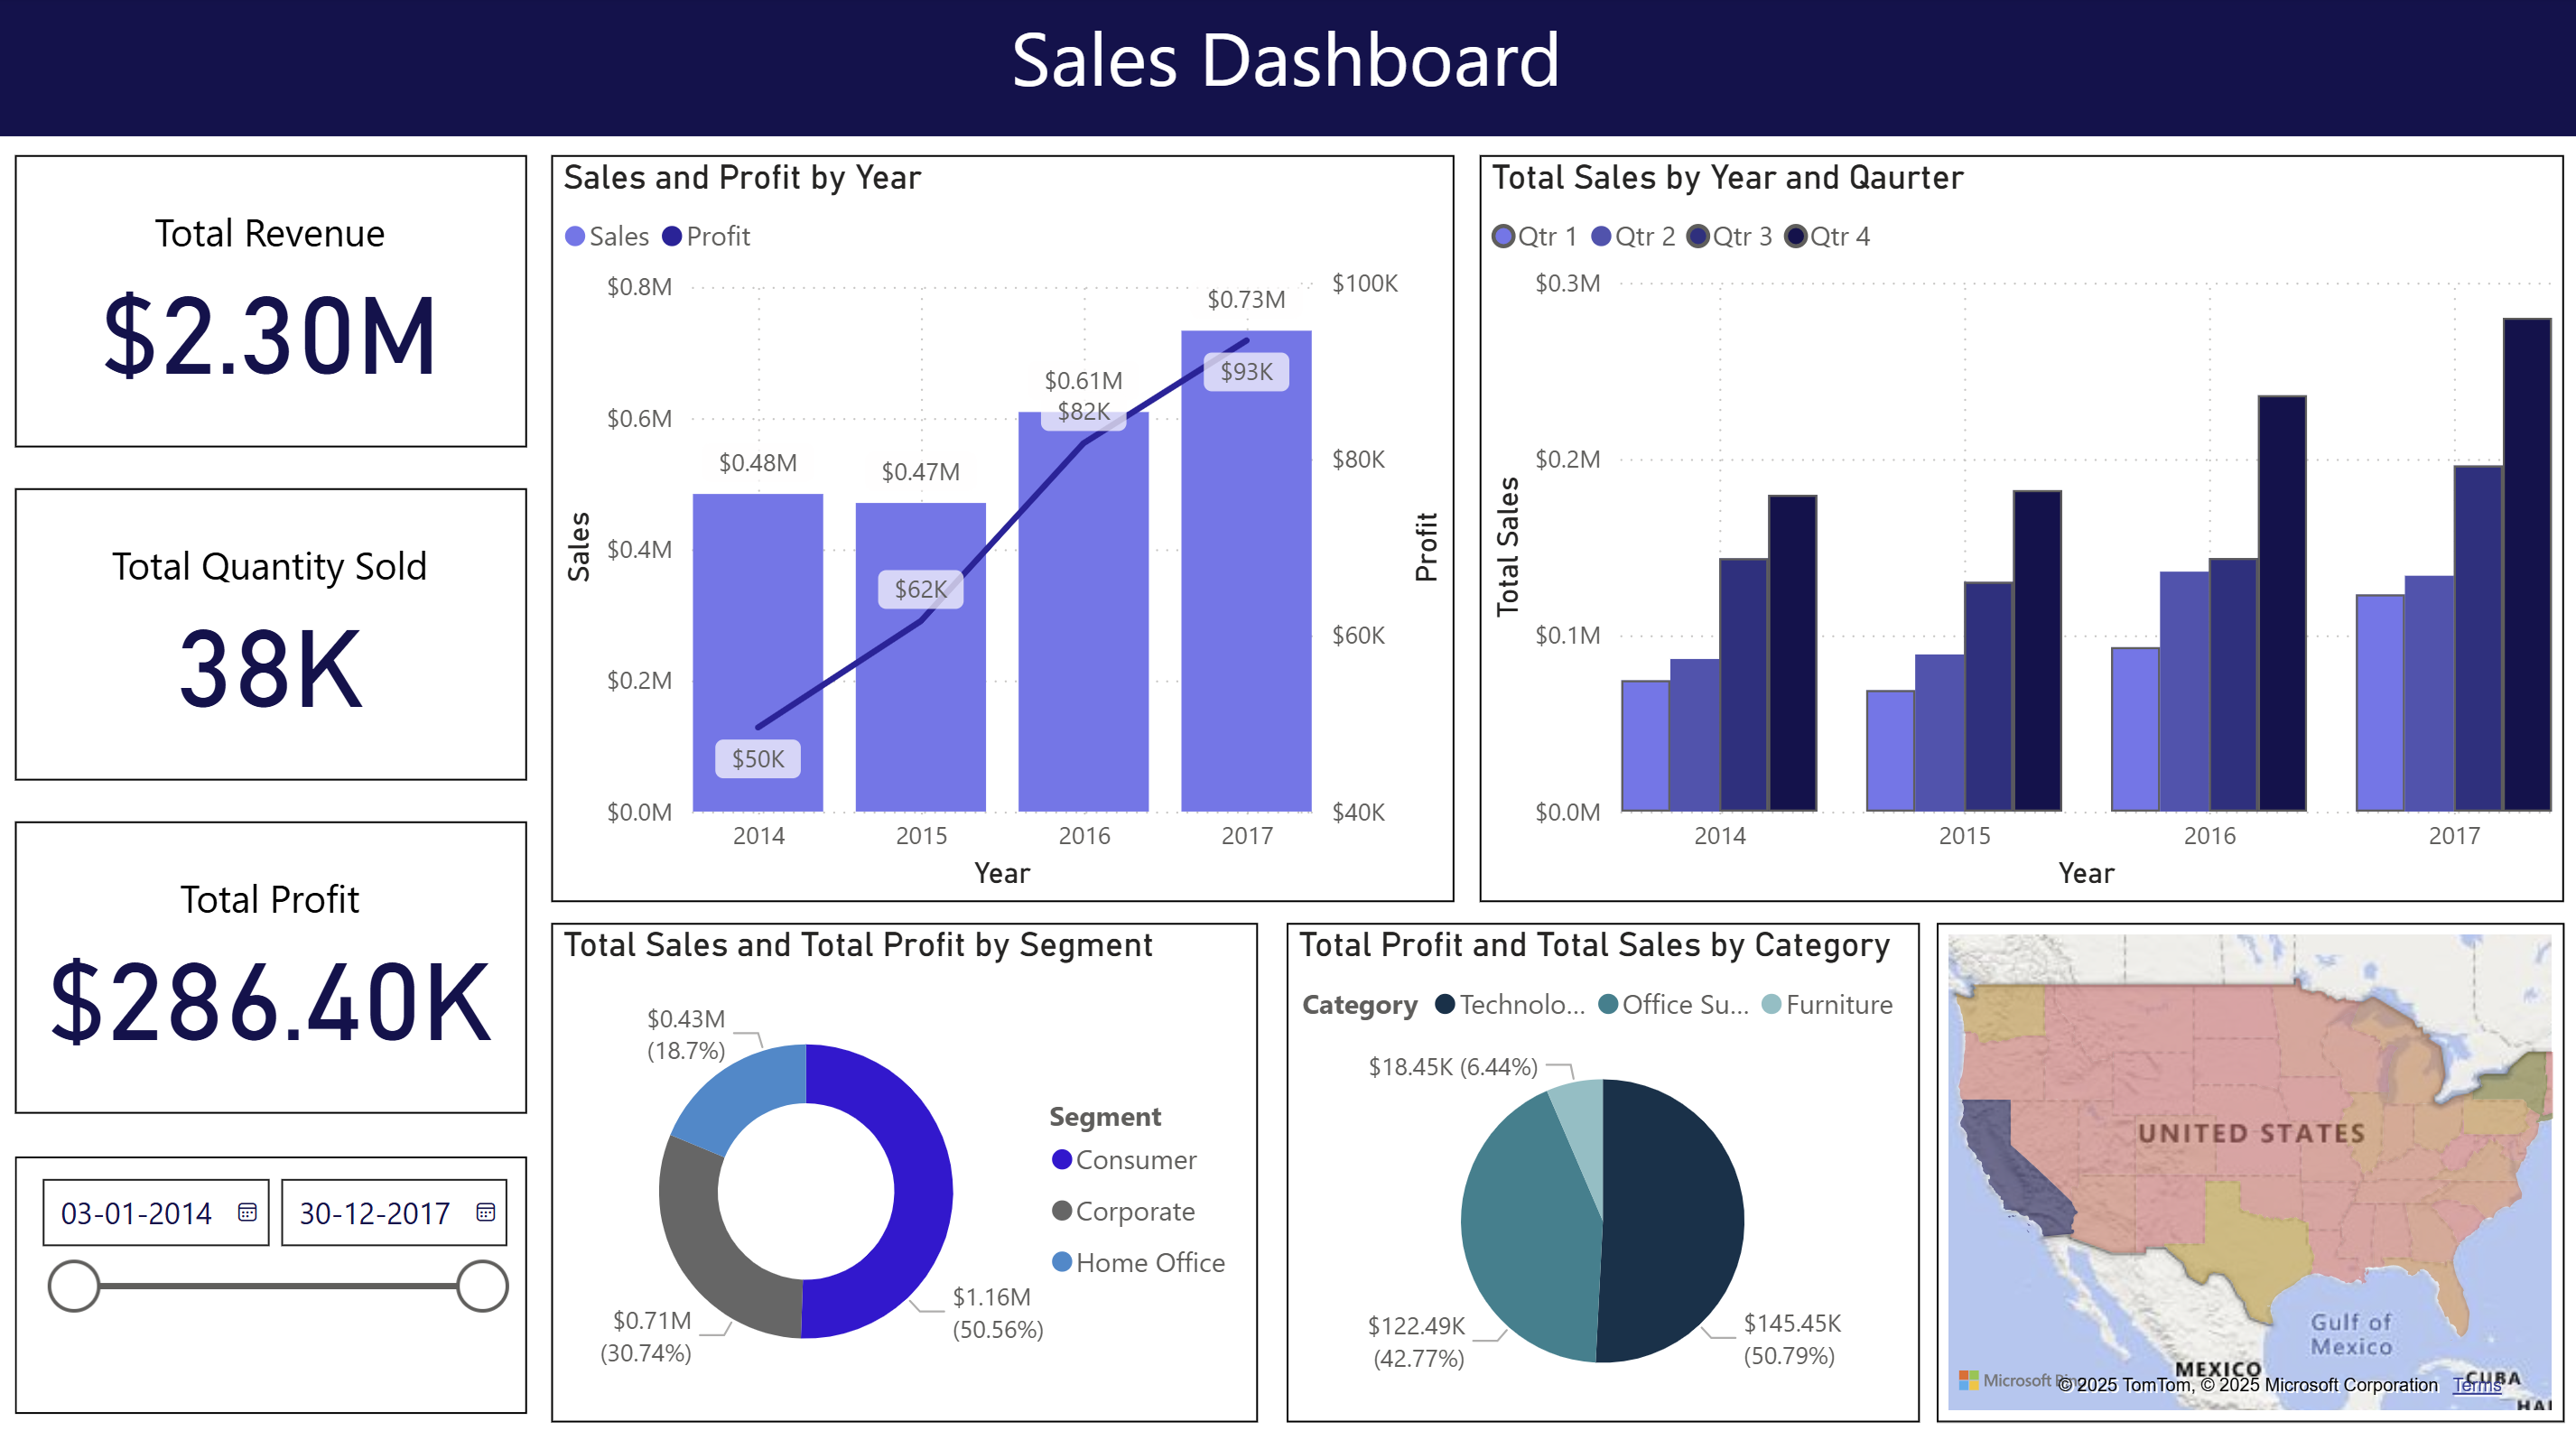

This screenshot's page, from the dashboard's own definition file:
{"tool":"powerbi","page":{"name":"Page 1","canvas":[1280,720],"ordinal":0},"visuals":[{"type":"textbox","box":[0,0,1280.5,70],"z":0},{"type":"cardVisual","fields":{"Data":["Sum(superstore_data.Sales)"]},"box":[10,80,253.8,145],"z":1000},{"type":"cardVisual","fields":{"Data":["Sum(superstore_data.Quantity)"]},"box":[10,245,253.8,145],"z":2000},{"type":"cardVisual","fields":{"Data":["Sum(superstore_data.Profit)"]},"box":[10,410,253.8,145],"z":3000},{"type":"slicer","fields":{"Values":["superstore_data.Order Date"]},"box":[10,576.2,253.8,127.5],"z":4000},{"type":"lineStackedColumnComboChart","title":"Sales and Profit by Year","fields":{"Category":["superstore_data.Order Date.Variation.Date Hierarchy.Year","superstore_data.Order Date.Variation.Date Hierarchy.Quarter","superstore_data.Order Date.Variation.Date Hierarchy.Month","superstore_data.Order Date.Variation.Date Hierarchy.Day"],"Y":["Sum(superstore_data.Sales)"],"Y2":["Sum(superstore_data.Profit)"]},"box":[276.2,80,447.5,370],"z":5000},{"type":"clusteredColumnChart","fields":{"Category":["superstore_data.Year"],"Series":["superstore_data.Qaurter"],"Y":["Sum(superstore_data.Sales)"]},"box":[736.2,80,537.5,370],"z":6000},{"type":"filledMap","fields":{"Category":["superstore_data.State"]},"box":[962.5,460,311.2,247.5],"z":7000},{"type":"donutChart","fields":{"Y":["Sum(superstore_data.Sales)"],"Category":["superstore_data.Segment"]},"box":[276.2,460,350,247.5],"z":7001},{"type":"pieChart","fields":{"Category":["superstore_data.Category"],"Y":["Sum(superstore_data.Profit)"]},"box":[640,460,313.8,247.5],"z":7002}]}

Visuals, with their boxes in screenshot pixels (x1, y1, x2, y2), scaled from the page's 1280x720 canvas onto the 2576x1440 screenshot:
textbox: region(0, 0, 2575, 140)
cardVisual - Sum(superstore_data.Sales): region(20, 160, 531, 450)
cardVisual - Sum(superstore_data.Quantity): region(20, 490, 531, 780)
cardVisual - Sum(superstore_data.Profit): region(20, 820, 531, 1110)
slicer - superstore_data.Order Date: region(20, 1152, 531, 1407)
"Sales and Profit by Year" lineStackedColumnComboChart: region(556, 160, 1456, 900)
clusteredColumnChart - superstore_data.Year x superstore_data.Qaurter: region(1482, 160, 2563, 900)
filledMap - superstore_data.State: region(1937, 920, 2563, 1415)
donutChart - Sum(superstore_data.Sales) x superstore_data.Segment: region(556, 920, 1260, 1415)
pieChart - superstore_data.Category x Sum(superstore_data.Profit): region(1288, 920, 1920, 1415)
